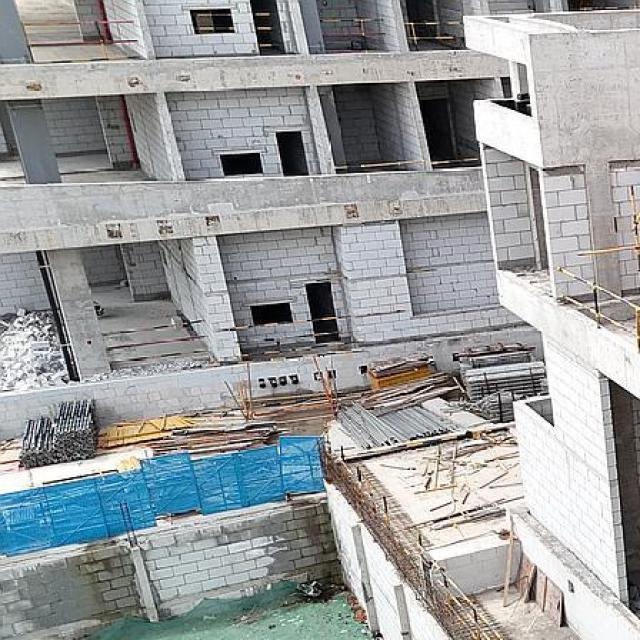edge_guardrail: (555, 266, 640, 349), (216, 315, 360, 358), (431, 560, 505, 640), (21, 19, 142, 64), (103, 319, 211, 365), (339, 445, 390, 524), (319, 18, 388, 53), (404, 21, 464, 52), (252, 12, 284, 48), (334, 159, 423, 171), (192, 14, 234, 31), (431, 157, 479, 166)
